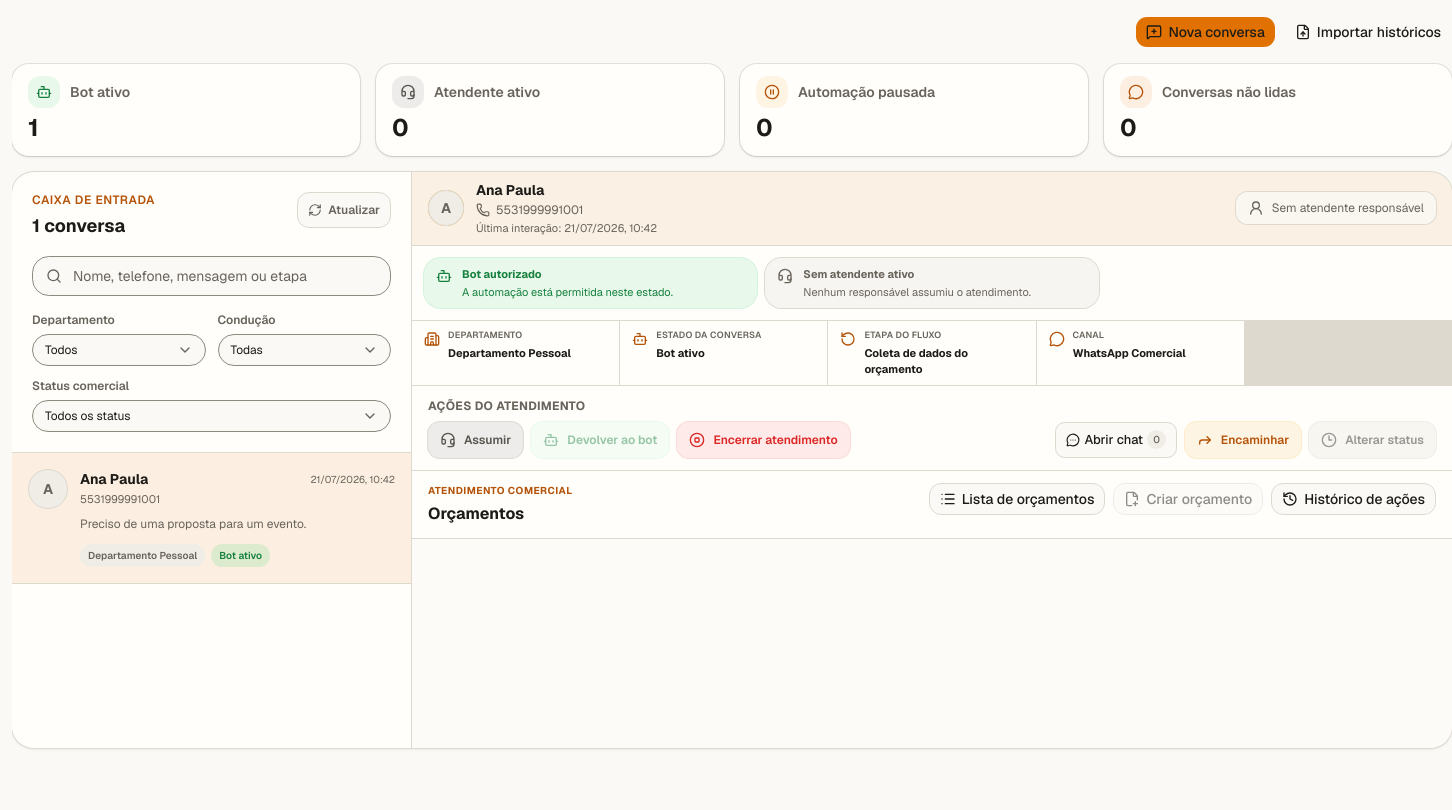
Test: ConversationWorkspace › exibe rótulos legíveis e somente os nove departamentos do MVP nos filtros
What coordinates should you click on to do the following:
click the dropdown named "Departamento"
I would click on:
 (119, 350)
Its box is [32,334,206,366].
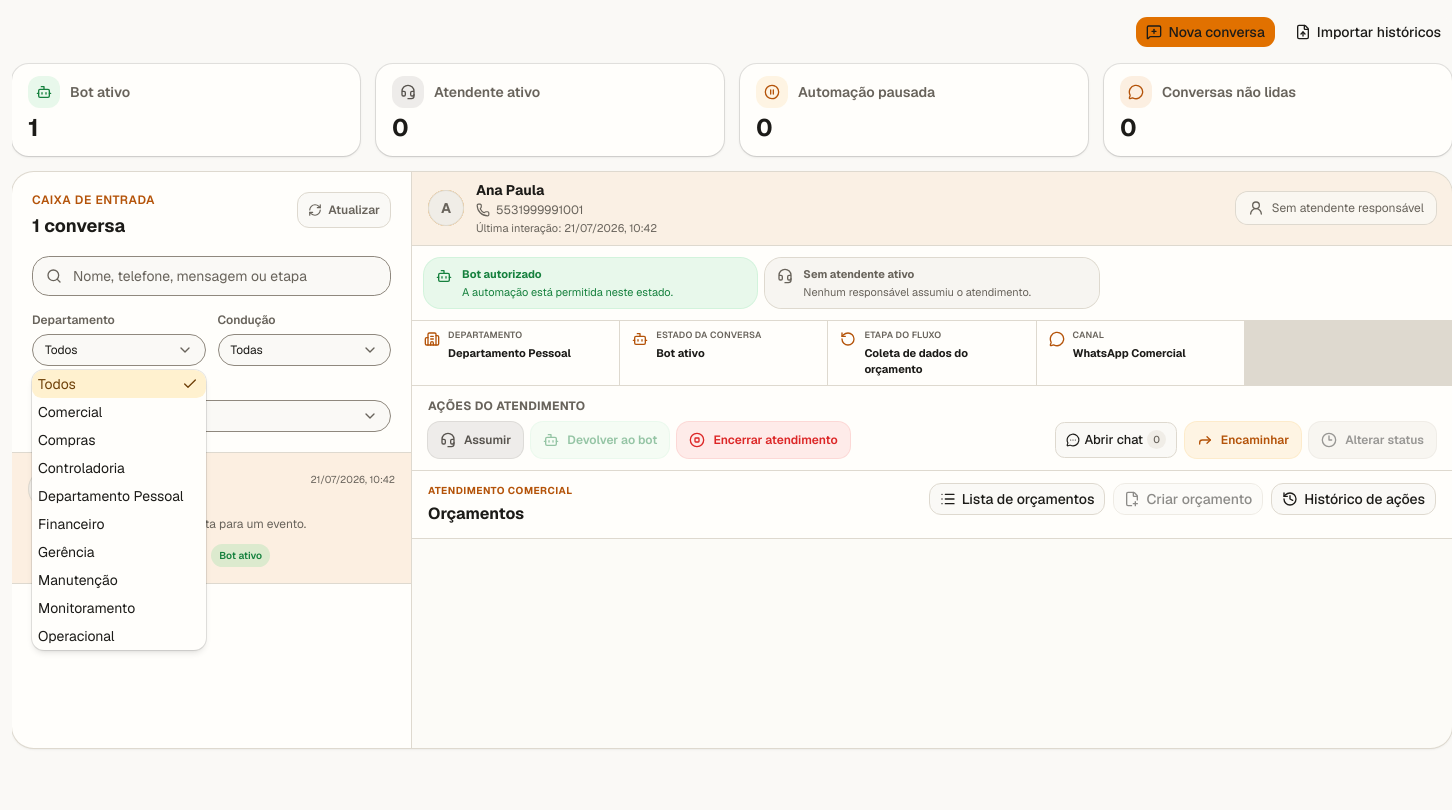
Expected: the number of options is 10
Expected: the option "Departamento Pessoal" is shown, [38,487,184,505]
Expected: the option "Operacional" is shown, [38,627,115,645]
